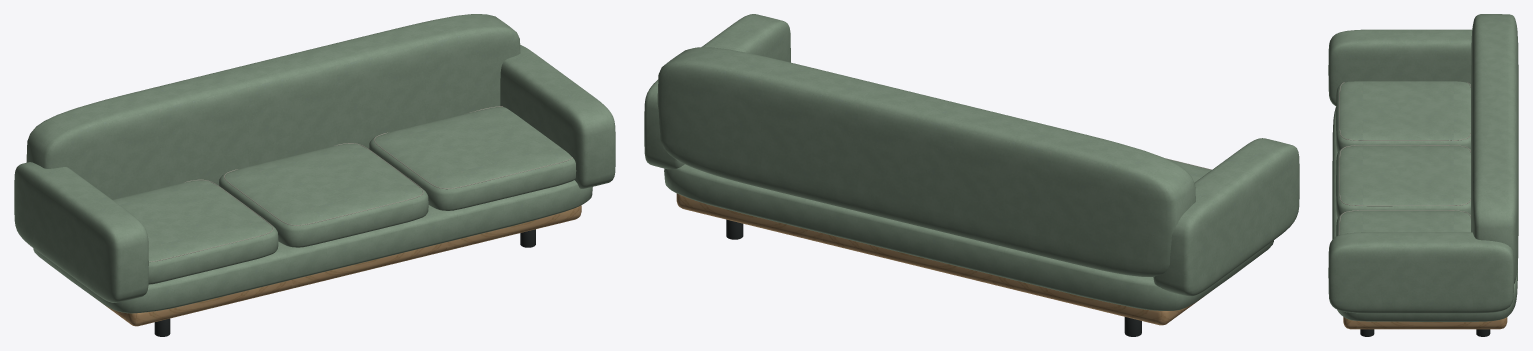
The model's file is sofa.glb.
The picture shows the model from 3 angles, left to right: view 1: azimuth 30°, elevation 25°; view 2: azimuth 150°, elevation 25°; view 3: azimuth 270°, elevation 25°; orthographic projection. The views are drawn at different scales.
Visible parts, largest first — view 1: Loose seat, Walnut | floating plinth, Loose seat | lower tailored welt, Low foot; view 2: Loose seat, Walnut | floating plinth, Low foot; view 3: Loose seat, Walnut | floating plinth, Loose seat | lower tailored welt, Low foot.
Part boxes in pixels (x1,y1,x2,y2): Loose seat: [14, 14, 615, 313]; Walnut | floating plinth: [105, 205, 581, 326]; Loose seat | lower tailored welt: [149, 106, 572, 262]; Low foot: [154, 229, 535, 336]; Loose seat: [644, 14, 1299, 310]; Walnut | floating plinth: [676, 193, 1208, 325]; Low foot: [726, 219, 1141, 336]; Loose seat: [1328, 14, 1518, 321]; Walnut | floating plinth: [1343, 317, 1507, 329]; Loose seat | lower tailored welt: [1339, 82, 1470, 234]; Low foot: [1360, 329, 1490, 336].
Bounding box in the file's own units: 2.6 × 0.837 × 0.952.
Materials: 4 (2 with a texture image).
